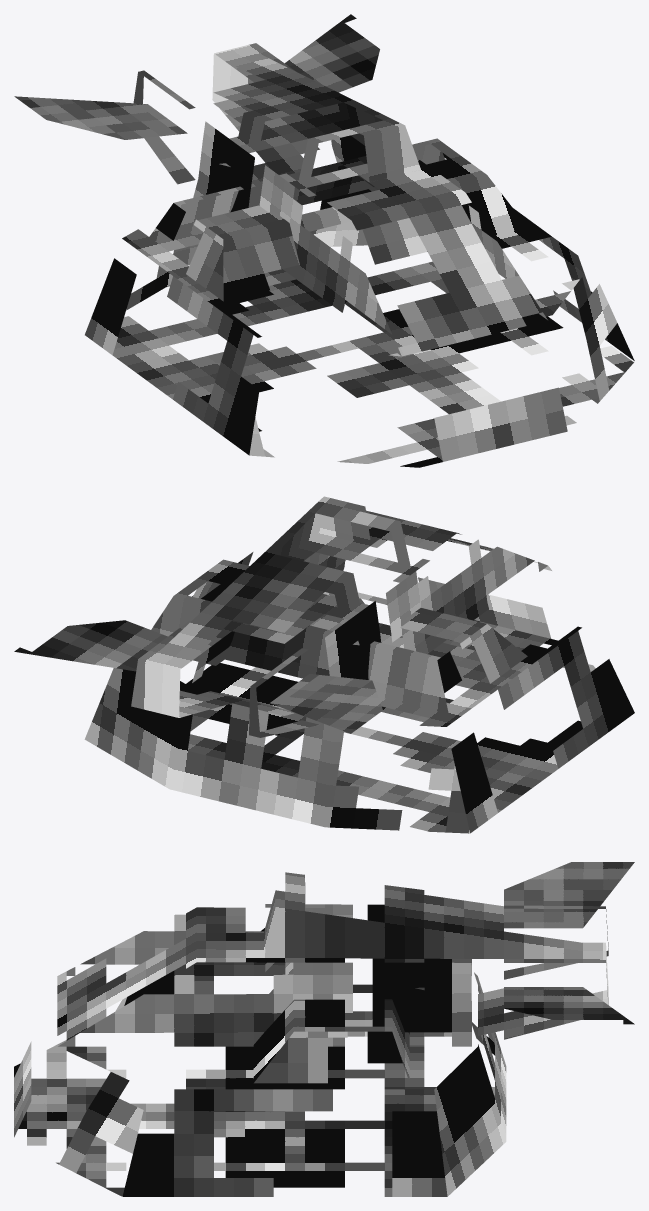
The model's file is harasser_wreck.glb.
3 renders of one model, top to bottom at view 1: azimuth 30°, elevation 25°; view 2: azimuth 150°, elevation 25°; view 3: azimuth 270°, elevation 25°, orthographic.
Visible parts, largest first — view 1: harasser2L1; view 2: harasser2L1; view 3: harasser2L1.
Part boxes in pixels (left/top/right/bottom): harasser2L1: left=14, top=14, right=634, bottom=467; harasser2L1: left=14, top=496, right=634, bottom=833; harasser2L1: left=14, top=862, right=634, bottom=1196.
Bounding box in the file's own units: 3.94 × 2.11 × 5.57.
1 material, 1 textured.
